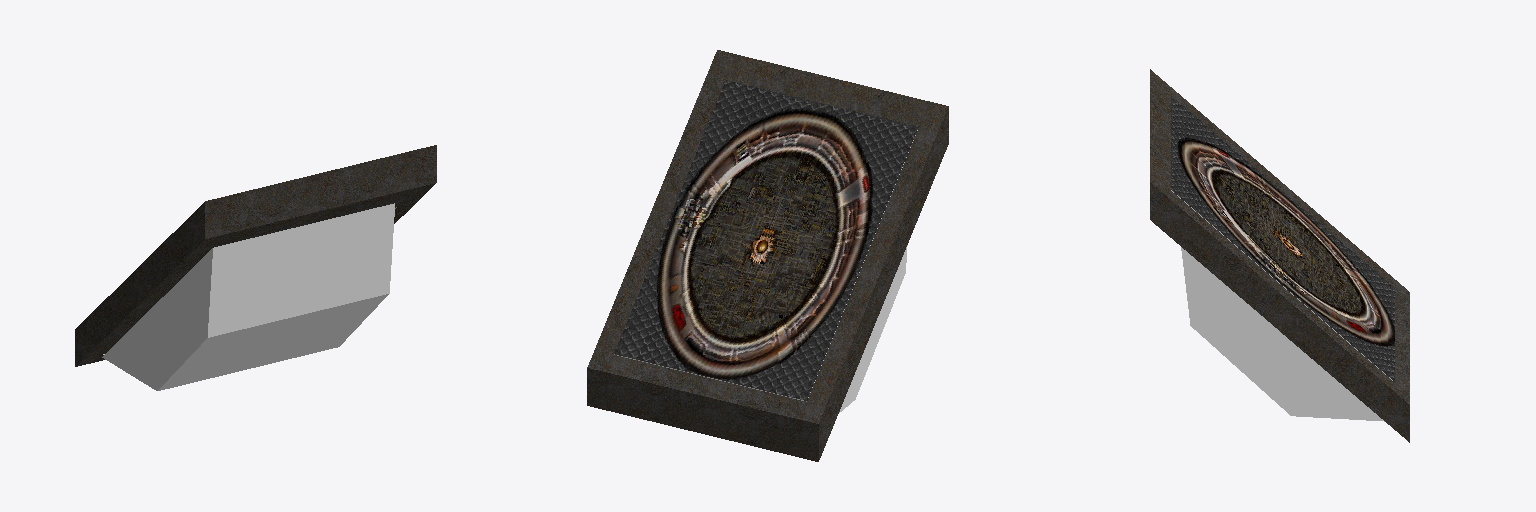
3 views of the same model, side by side, from view 1: azimuth 30°, elevation 25°; view 2: azimuth 150°, elevation 25°; view 3: azimuth 270°, elevation 25° (orthographic).
Visible parts, largest first — view 1: entity0_brush1, entity0_brush2, entity0_brush0, entity0_brush3, entity0_brush5; view 2: entity0_brush5, entity0_brush0, entity0_brush4, entity0_brush3, entity0_brush2, entity0_brush1; view 3: entity0_brush5, entity0_brush3, entity0_brush1, entity0_brush2, entity0_brush0, entity0_brush4.
Boxes of the visible parts, box(x1,y1,x2,y2) form: entity0_brush1: box(102, 203, 394, 390); entity0_brush2: box(195, 150, 416, 248); entity0_brush0: box(75, 212, 212, 366); entity0_brush3: box(394, 145, 436, 223); entity0_brush5: box(104, 198, 405, 353); entity0_brush5: box(614, 80, 918, 401); entity0_brush0: box(799, 127, 937, 461); entity0_brush4: box(607, 355, 805, 456); entity0_brush3: box(587, 50, 735, 410); entity0_brush2: box(726, 54, 948, 168); entity0_brush1: box(839, 245, 907, 412); entity0_brush5: box(1171, 96, 1394, 381); entity0_brush3: box(1150, 173, 1409, 442); entity0_brush1: box(1181, 247, 1384, 421); entity0_brush2: box(1150, 69, 1170, 189); entity0_brush0: box(1171, 87, 1409, 300); entity0_brush4: box(1395, 289, 1409, 394).
Bounding box in the file's own units: 153 × 165 × 148.
Materials: 4 (2 with a texture image).